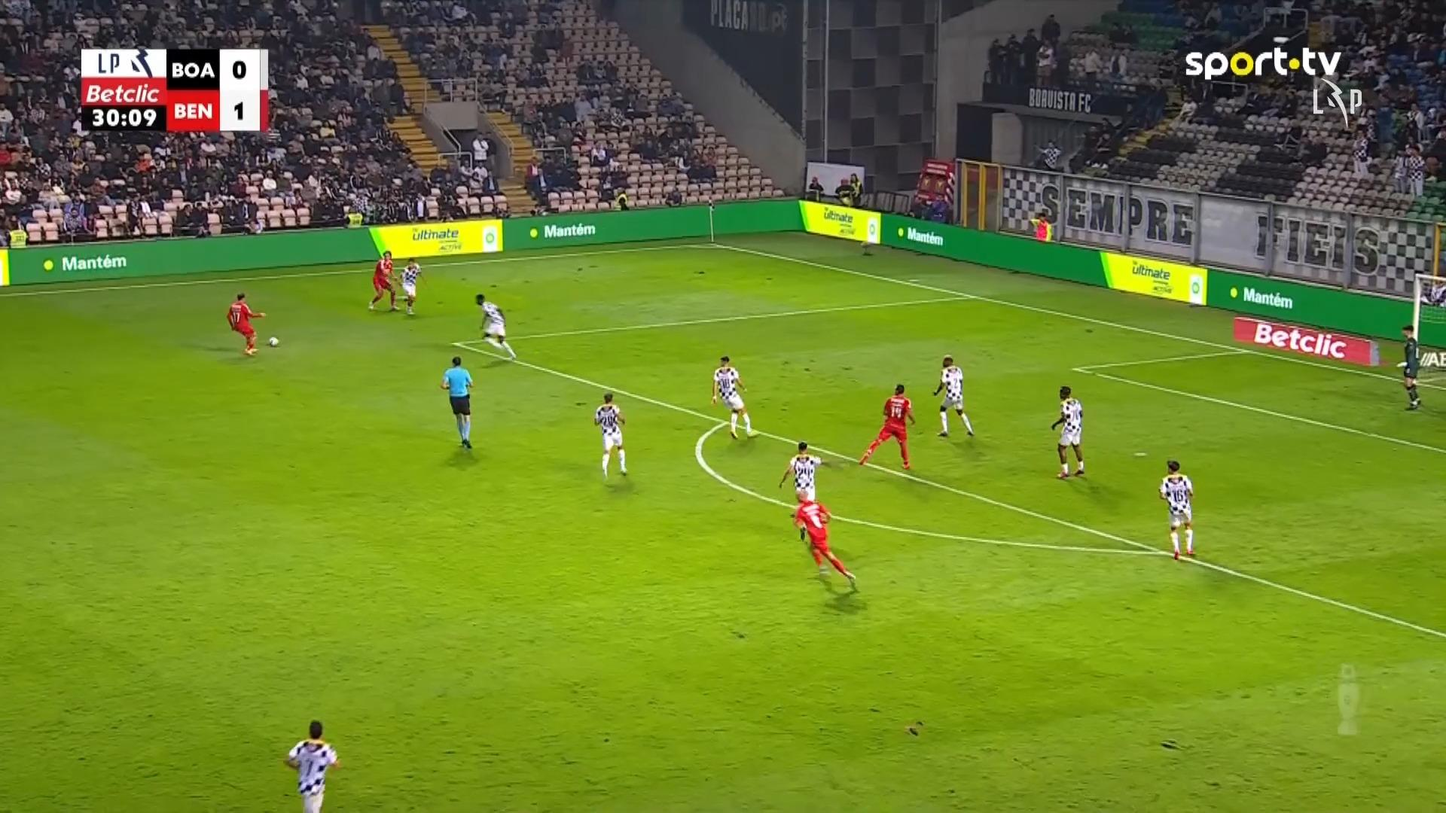ball: (267, 336, 279, 347)
goalkeeper: (1399, 324, 1422, 410)
player: (792, 498, 857, 592), (283, 719, 340, 811), (858, 383, 915, 470), (777, 440, 822, 540), (710, 355, 758, 440), (1158, 458, 1195, 560), (932, 355, 975, 437), (1050, 385, 1085, 479), (593, 391, 627, 479), (474, 292, 516, 360), (226, 291, 266, 355), (367, 249, 398, 312), (399, 257, 425, 315)
referee: (440, 355, 474, 449)
